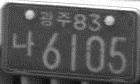0: (85, 35, 106, 73)
1: (69, 32, 79, 73)
3: (88, 12, 102, 32)
5: (108, 35, 128, 75)
6: (41, 30, 61, 70)
8: (73, 12, 88, 32)
광주_O: (38, 9, 71, 27)
나: (11, 28, 35, 58)
